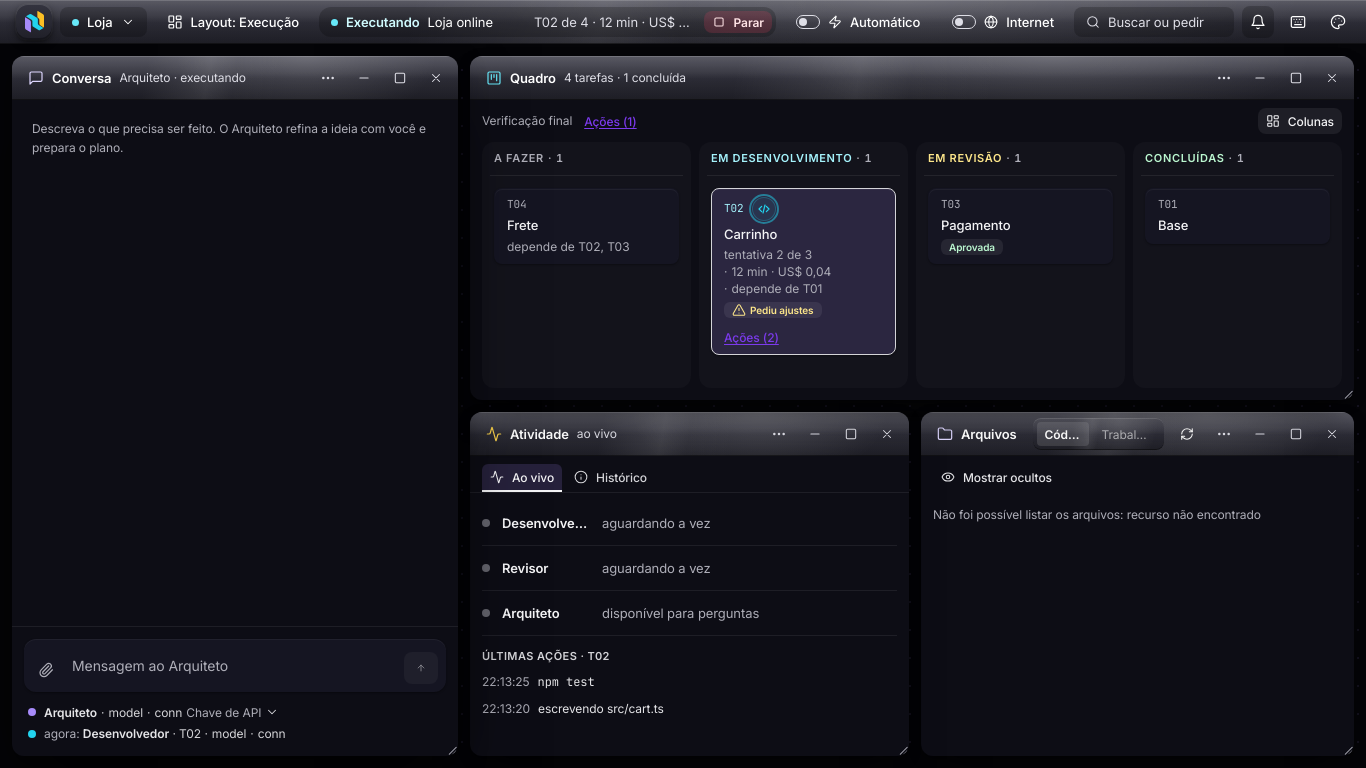
Test case: Quadro: Ações (N) e a verificação final › 'Ações (N)' abre a folha DENTRO da janela, com a trilha; Esc fecha e devolve o foco ao link
Click the button with aria-label "Ações (2) da tarefa T02" at (751, 338), box [720, 326, 783, 350]
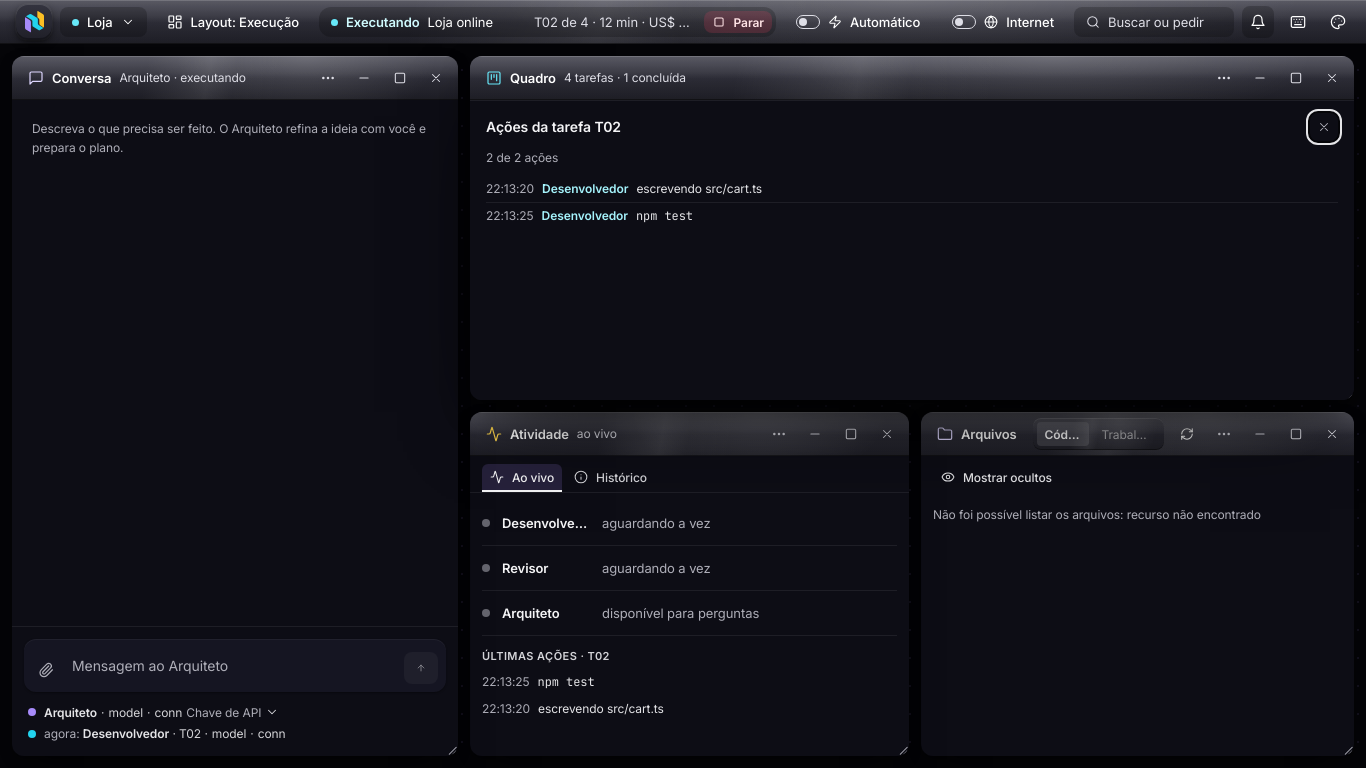
Now the dialog "Ações da tarefa T02" shows "escrevendo src/cart.ts", box [636, 181, 762, 196]
Now the dialog "Ações da tarefa T02" shows "npm test", box [636, 208, 693, 224]
Now the dialog "Ações da tarefa T02" shows "2 de 2 ações", box [486, 150, 558, 165]
Press Escape in the dialog "Ações da tarefa T02", box [470, 100, 1354, 400]
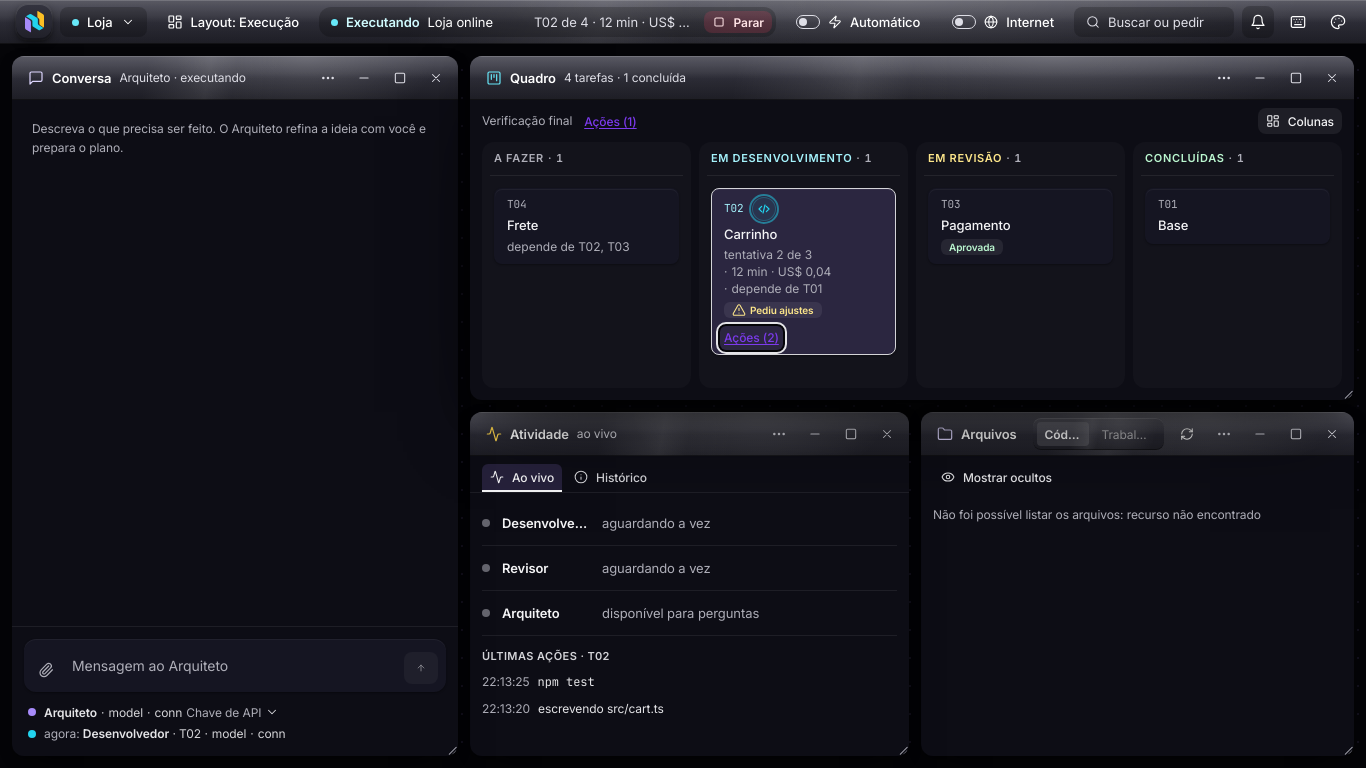
Now the heading "Ações da tarefa T02" is gone
